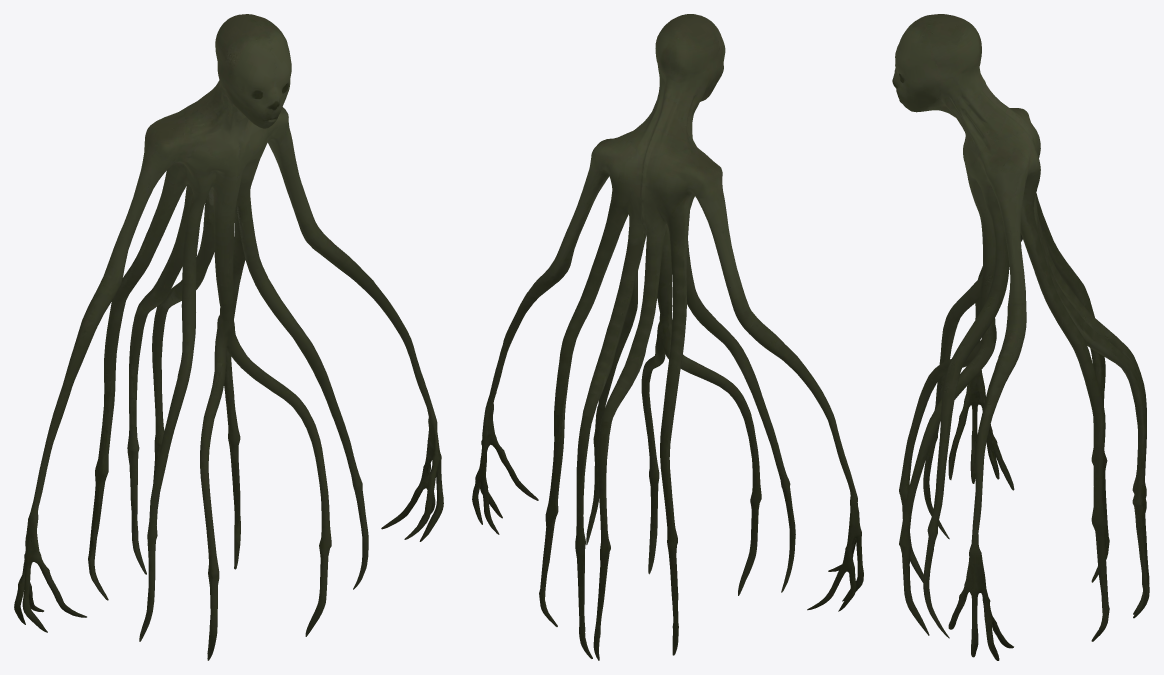
File: mx_dr_wraith.glb
The picture shows the model from 3 angles, left to right: view 1: azimuth 30°, elevation 25°; view 2: azimuth 150°, elevation 25°; view 3: azimuth 270°, elevation 25°; orthographic projection. The views are drawn at different scales.
Visible parts, largest first — view 1: Mesh_0; view 2: Mesh_0; view 3: Mesh_0.
Boxes of the visible parts, x1,y1,x2,y2 form: Mesh_0: (14, 14, 443, 660); Mesh_0: (472, 14, 863, 660); Mesh_0: (892, 14, 1149, 660).
Size of the model in its own units: 1.33 by 1.9 by 0.7386.
1 material, 1 textured.
